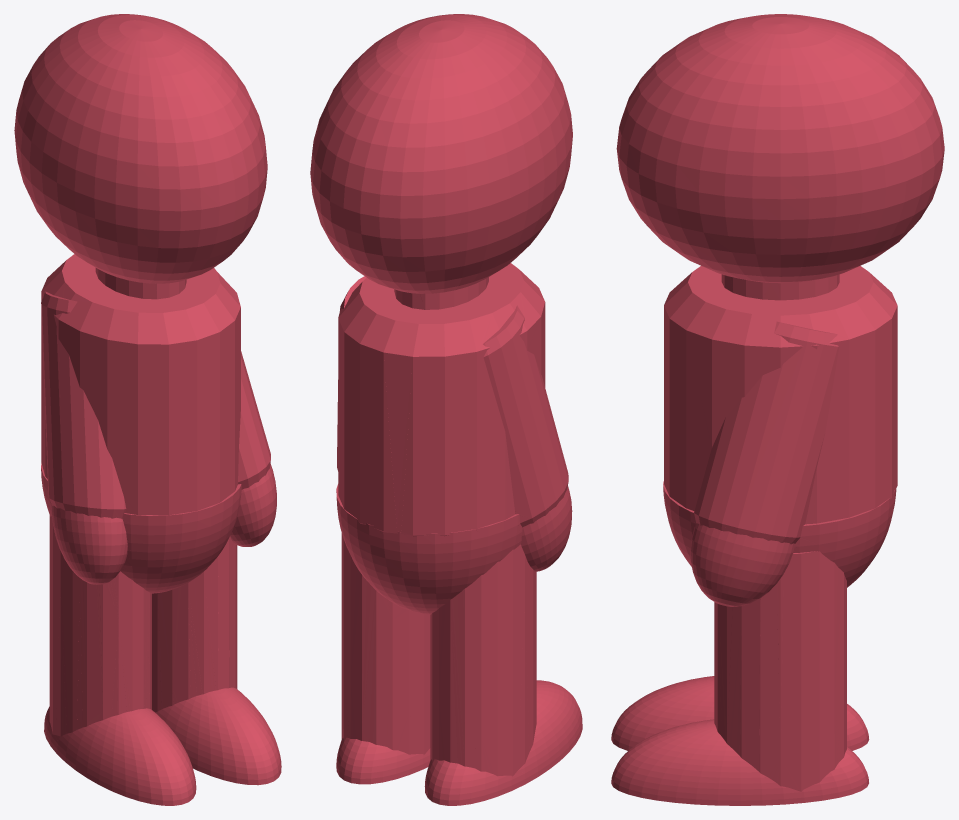
The model's file is character.glb.
The picture shows the model from 3 angles, left to right: view 1: azimuth 30°, elevation 25°; view 2: azimuth 150°, elevation 25°; view 3: azimuth 270°, elevation 25°; orthographic projection. The views are drawn at different scales.
Parts seen in each view (by area): view 1: Mesh_Mesh_head_geo.001_lambert2SG.001; view 2: Mesh_Mesh_head_geo.001_lambert2SG.001; view 3: Mesh_Mesh_head_geo.001_lambert2SG.001.
Part boxes in pixels (box(x1,y1,x2,y2)): Mesh_Mesh_head_geo.001_lambert2SG.001: box(14, 14, 281, 805); Mesh_Mesh_head_geo.001_lambert2SG.001: box(310, 14, 582, 805); Mesh_Mesh_head_geo.001_lambert2SG.001: box(611, 14, 944, 805).
Size of the model in its own units: 0.4857 by 1.58 by 0.6486.
